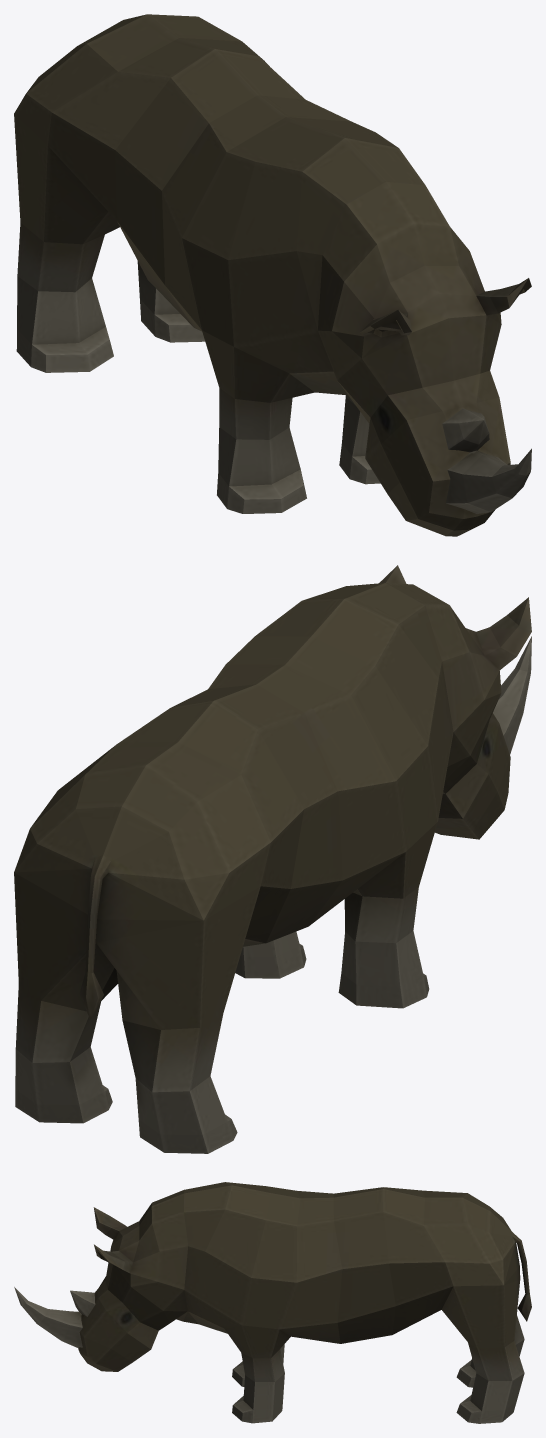
The model's file is rinoceronte.glb.
3 renders of one model, top to bottom at view 1: azimuth 30°, elevation 25°; view 2: azimuth 150°, elevation 25°; view 3: azimuth 270°, elevation 25°, orthographic. The views are drawn at different scales.
Visible parts, largest first — view 1: Rhinoceros_mesh; view 2: Rhinoceros_mesh; view 3: Rhinoceros_mesh.
Part boxes in pixels (x1,y1,x2,y2): Rhinoceros_mesh: (14, 14, 531, 536); Rhinoceros_mesh: (14, 565, 531, 1153); Rhinoceros_mesh: (14, 1182, 531, 1423).
Bounding box in the file's own units: 6.89 × 10.91 × 24.43.
Materials: 1 (1 with a texture image).
